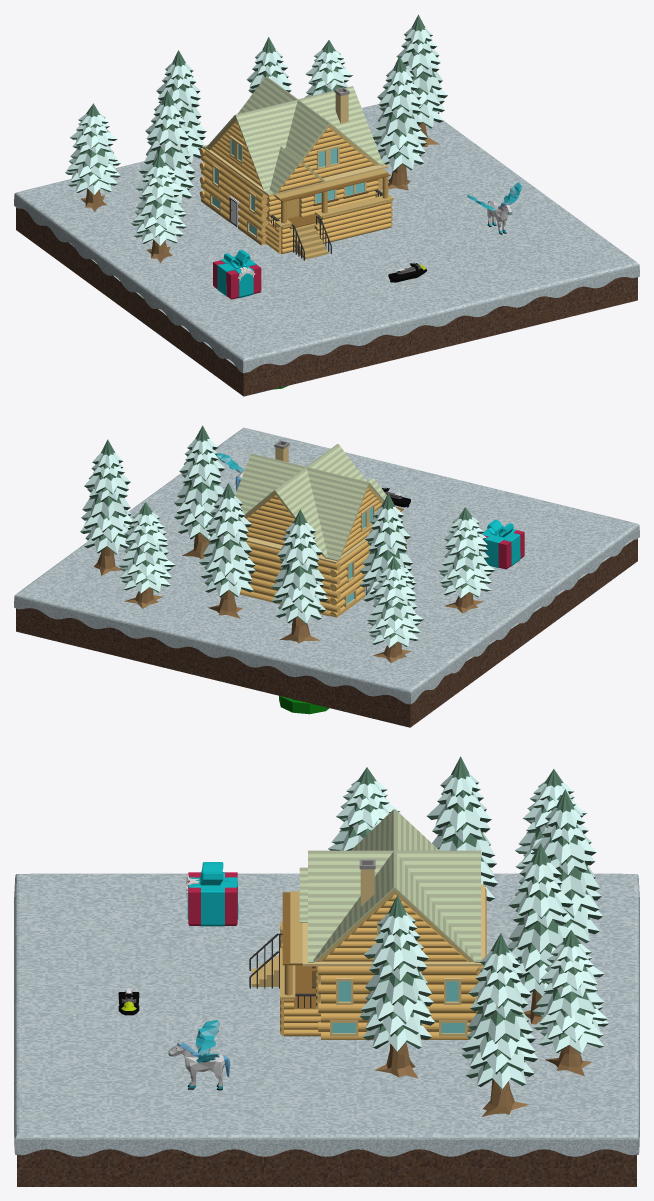
3 views of the same model, one above another, from view 1: azimuth 30°, elevation 25°; view 2: azimuth 150°, elevation 25°; view 3: azimuth 270°, elevation 25° (orthographic). The views are drawn at different scales.
Parts seen in each view (by area): view 1: Cube.003, Cube.1516, OBJRANDOM_GIANT_PRESENT, ANIMAL_PEGASO; view 2: Cube.003, Cube.1516, OBJRANDOM_GIANT_PRESENT, UNDERGROUND_PIPES; view 3: Cube.003, Cube.1516, OBJRANDOM_GIANT_PRESENT, ANIMAL_PEGASO.
Part boxes in pixels (x1=…): Cube.003: x1=14, y1=14, x2=639, y2=396; Cube.1516: x1=199, y1=76, x2=393, y2=260; OBJRANDOM_GIANT_PRESENT: x1=213, y1=249, x2=261, y2=299; ANIMAL_PEGASO: x1=467, y1=182, x2=521, y2=234; Cube.003: x1=14, y1=425, x2=639, y2=727; Cube.1516: x1=235, y1=440, x2=407, y2=617; OBJRANDOM_GIANT_PRESENT: x1=482, y1=519, x2=524, y2=569; UNDERGROUND_PIPES: x1=279, y1=696, x2=329, y2=714; Cube.003: x1=14, y1=756, x2=639, y2=1186; Cube.1516: x1=249, y1=809, x2=486, y2=1039; OBJRANDOM_GIANT_PRESENT: x1=186, y1=862, x2=238, y2=926; ANIMAL_PEGASO: x1=168, y1=1020, x2=230, y2=1090.
Bounding box in the file's own units: 4040 × 2275 × 4040.
31 materials, 4 textured.
